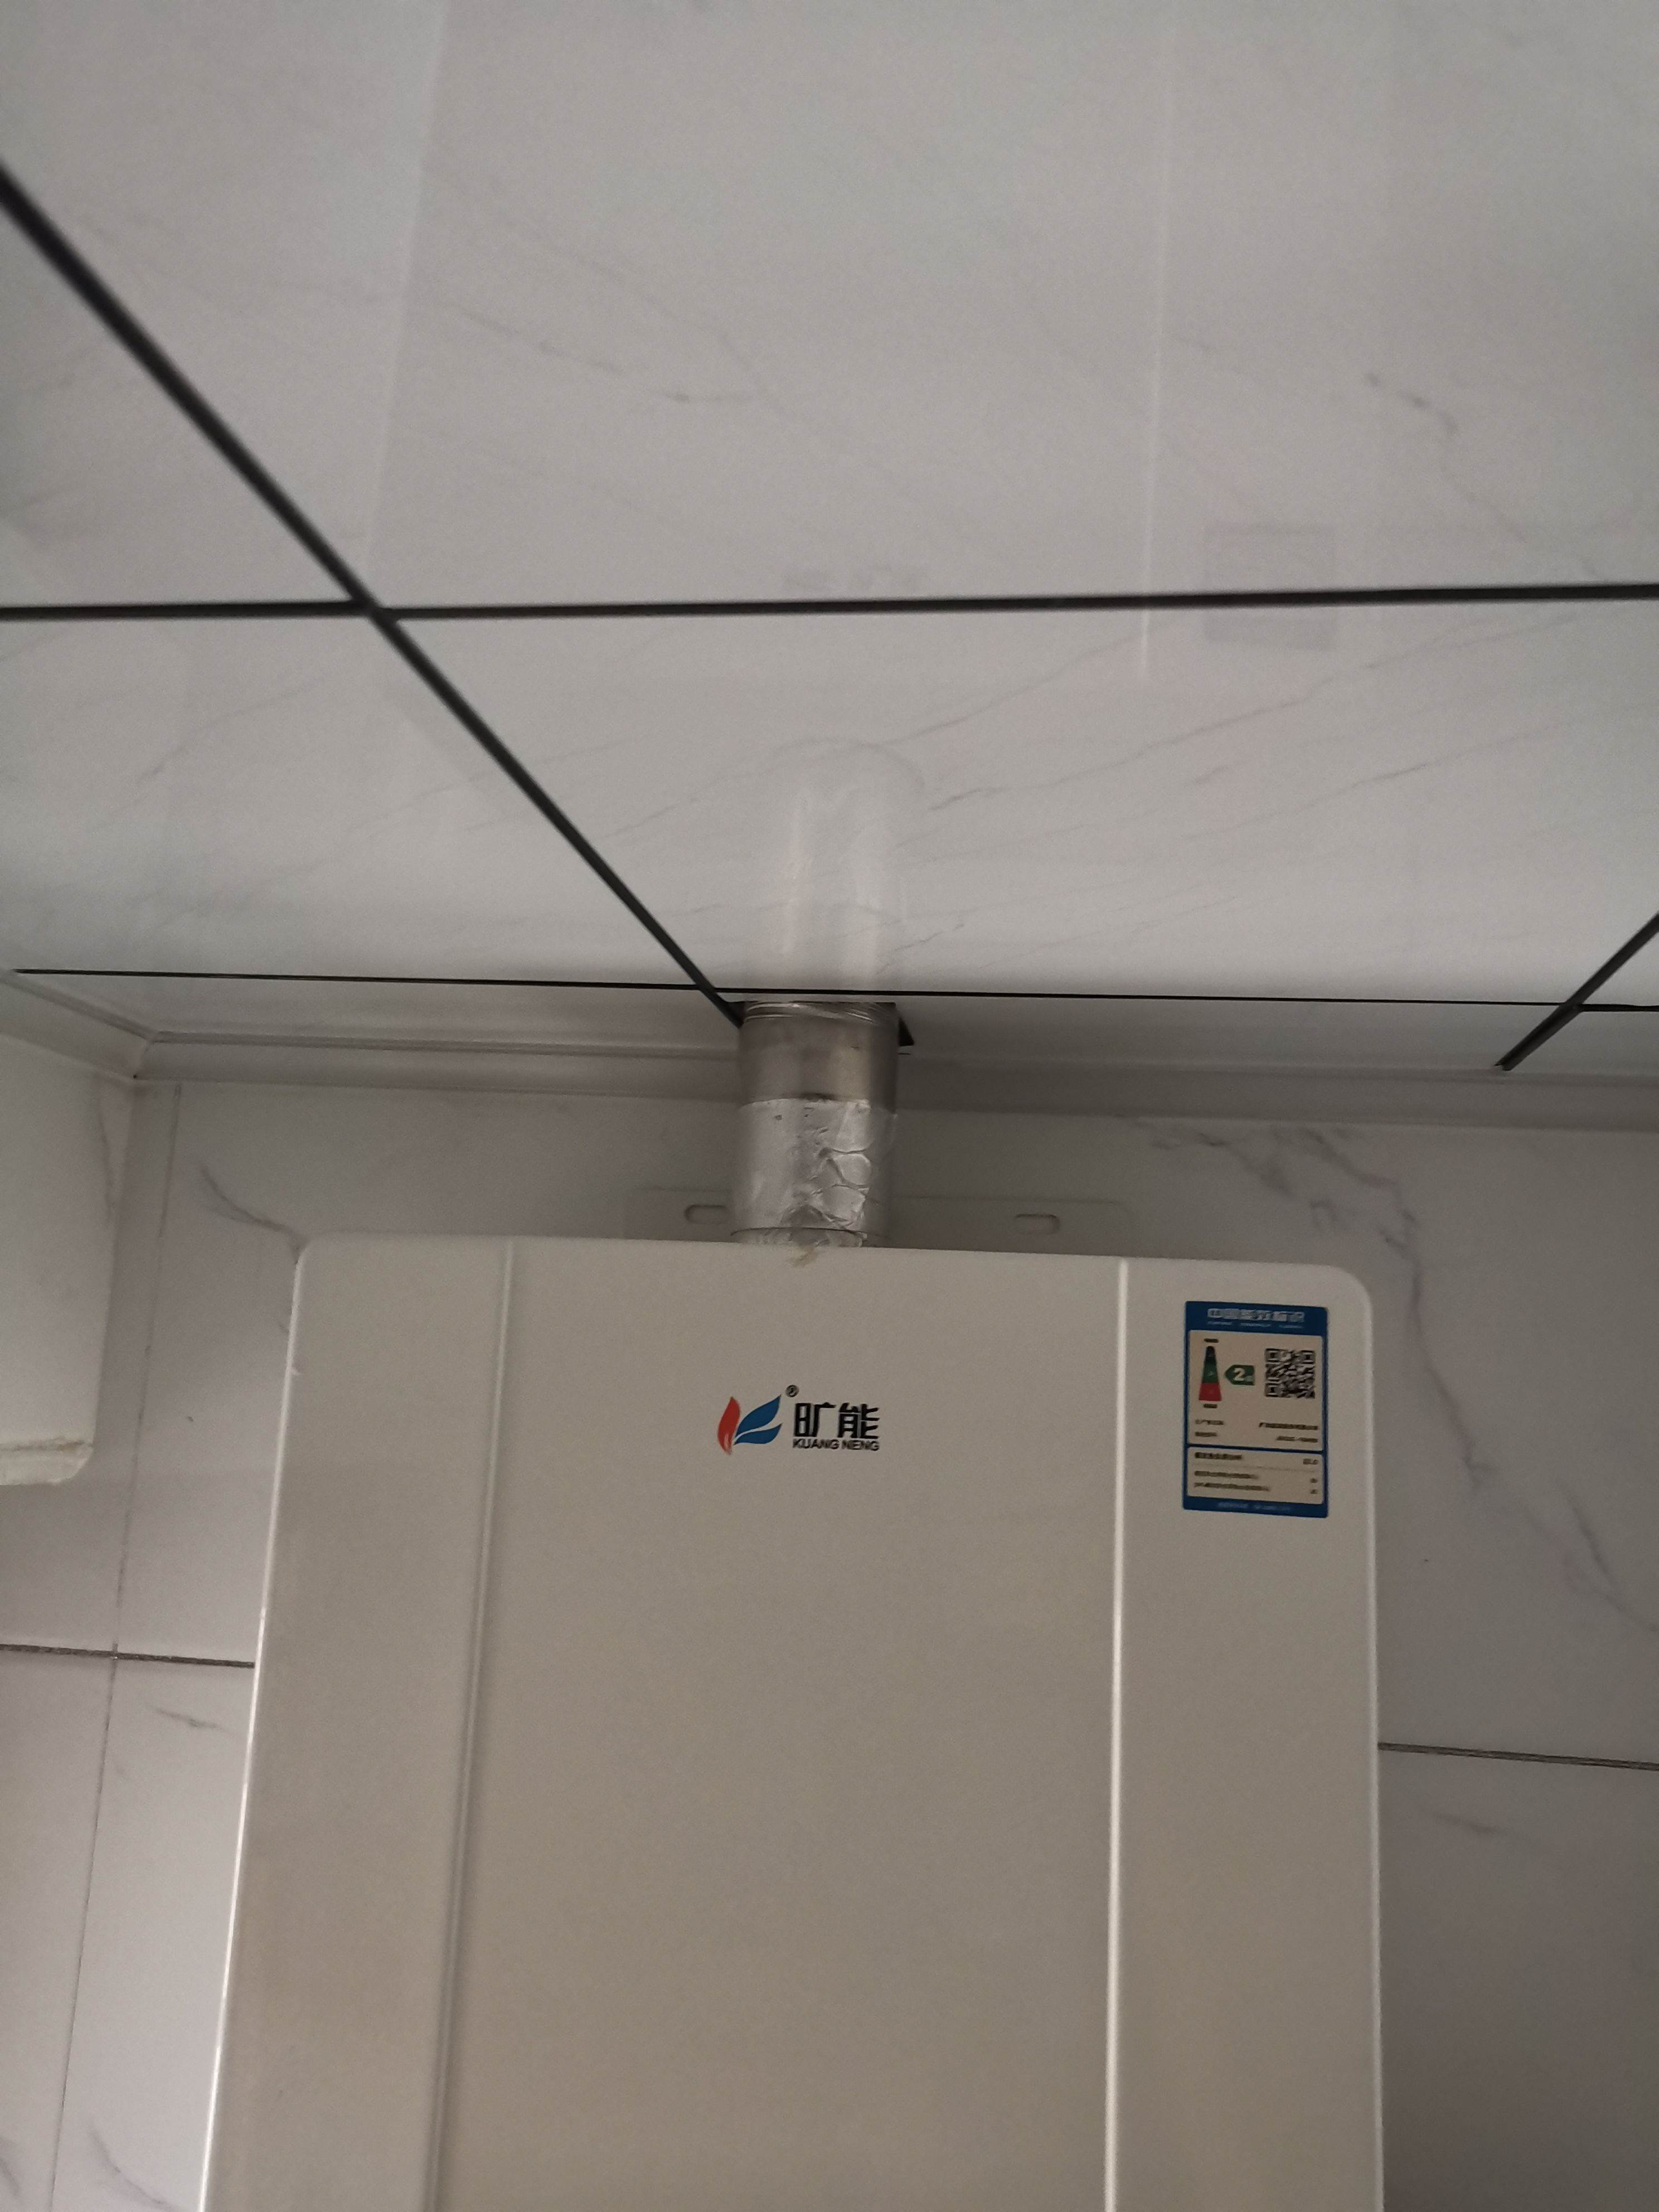loudou: (713, 1369, 897, 1472)
